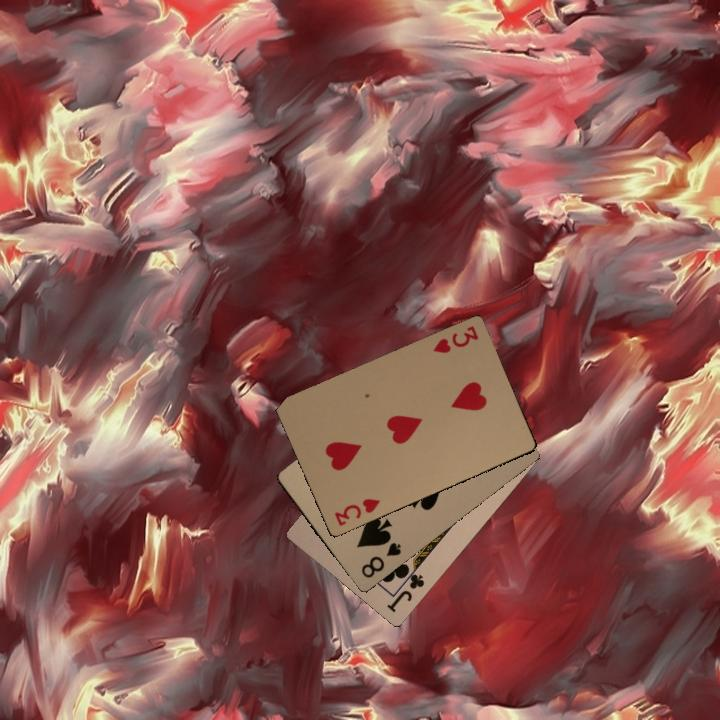3h: (330, 494, 382, 529), (429, 321, 481, 356)
8s: (357, 538, 404, 581)
Jc: (383, 564, 427, 615)
